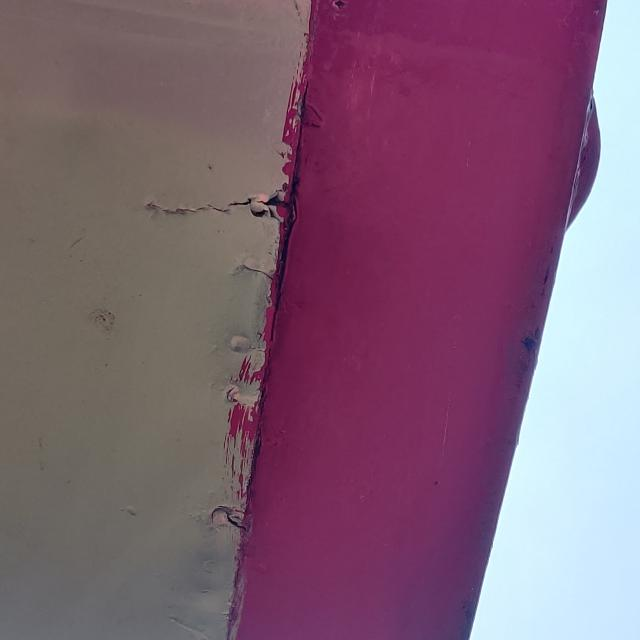crack: (134, 183, 305, 236), (212, 498, 262, 542), (236, 253, 282, 288)
